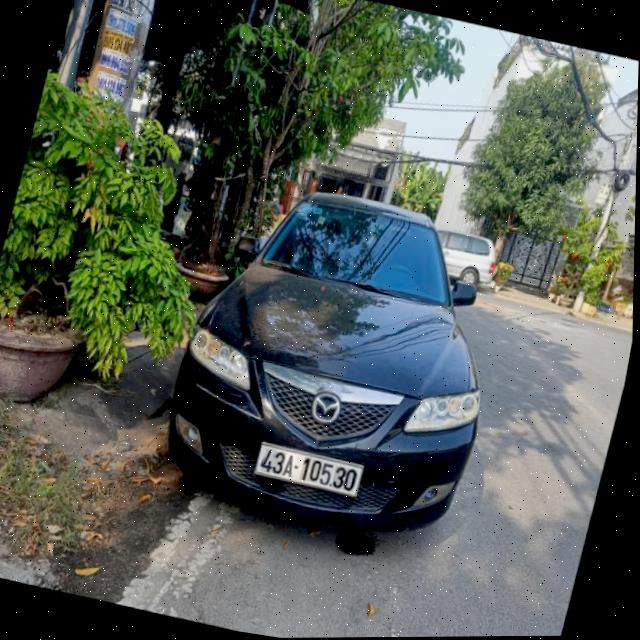car: (146, 161, 518, 557), (426, 220, 507, 300)
plate: (249, 439, 369, 503)
